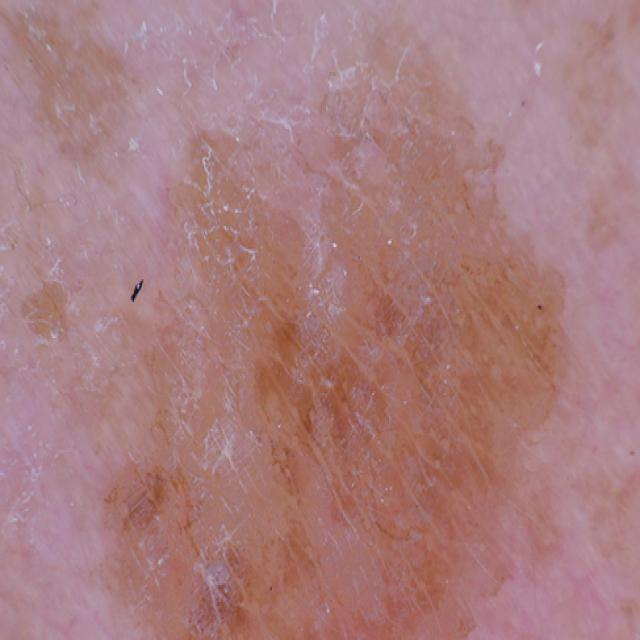Keratosis: (80, 49, 594, 640)
